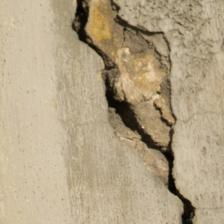Crack: (36, 4, 185, 78), (52, 44, 128, 155)
